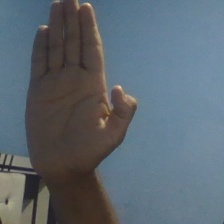B: (23, 1, 139, 182)
